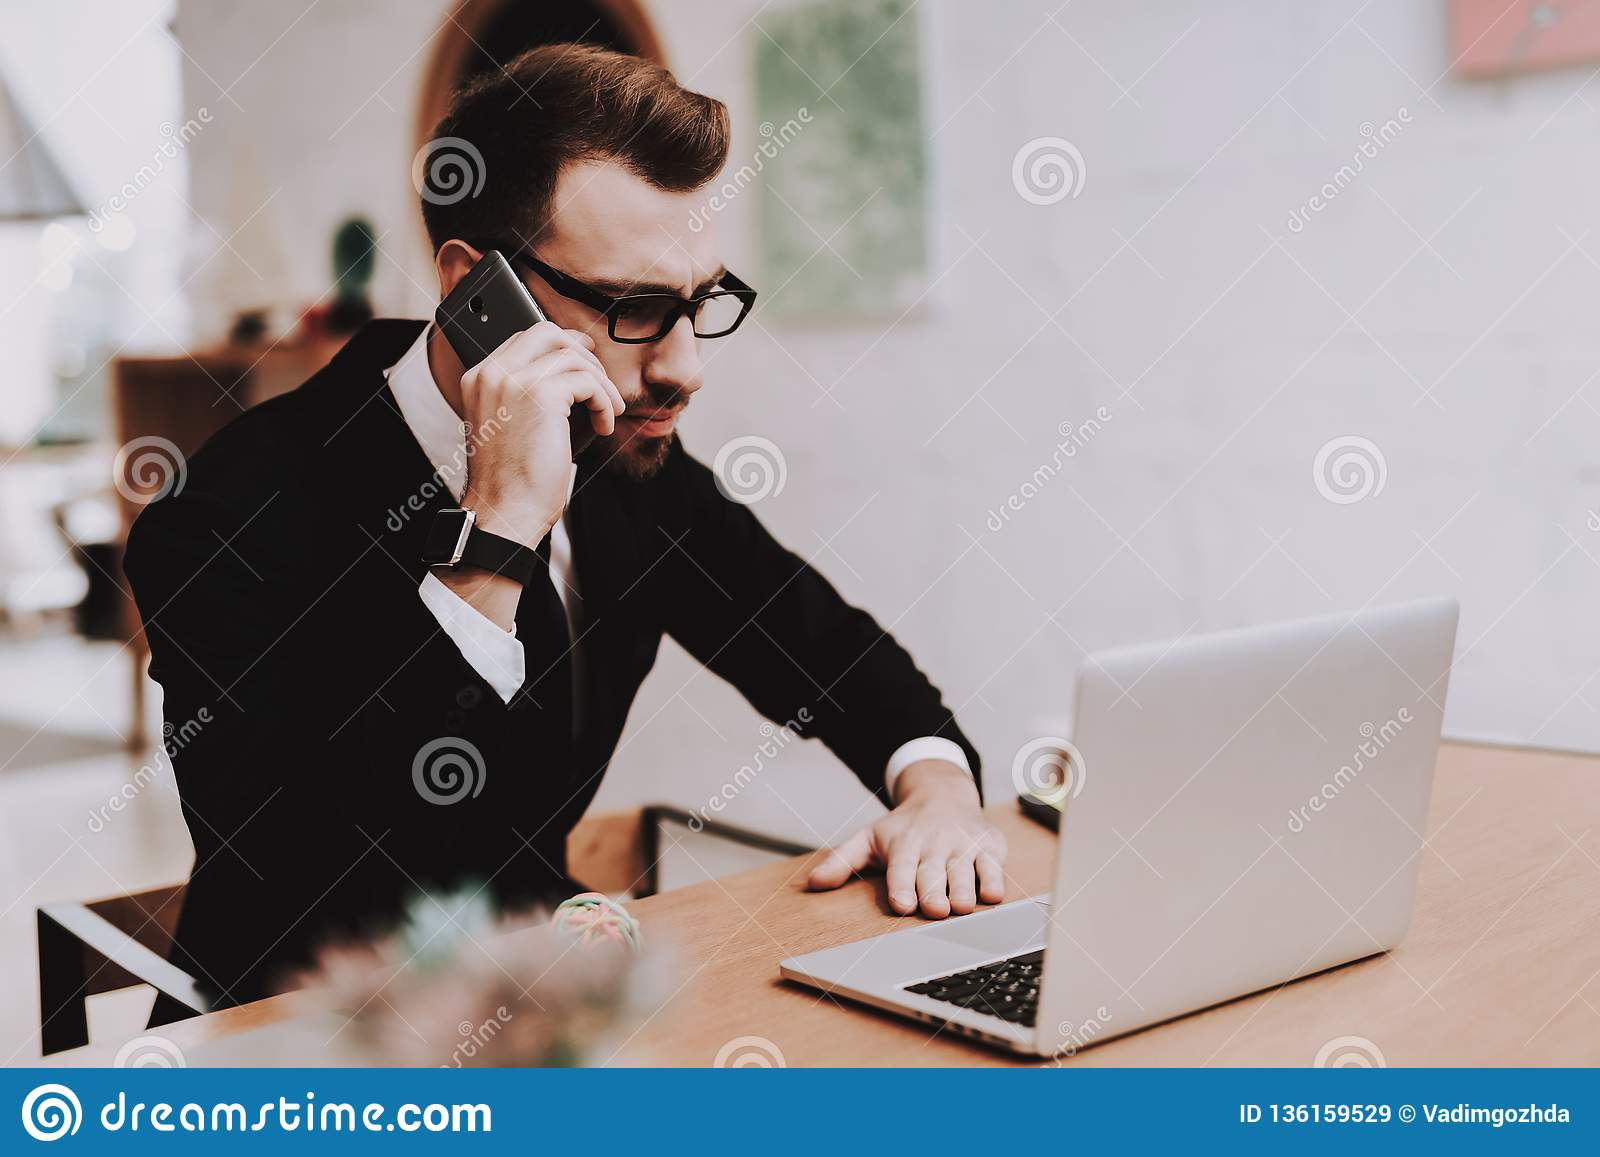phone: (437, 246, 585, 415)
talk: (434, 231, 722, 534)
